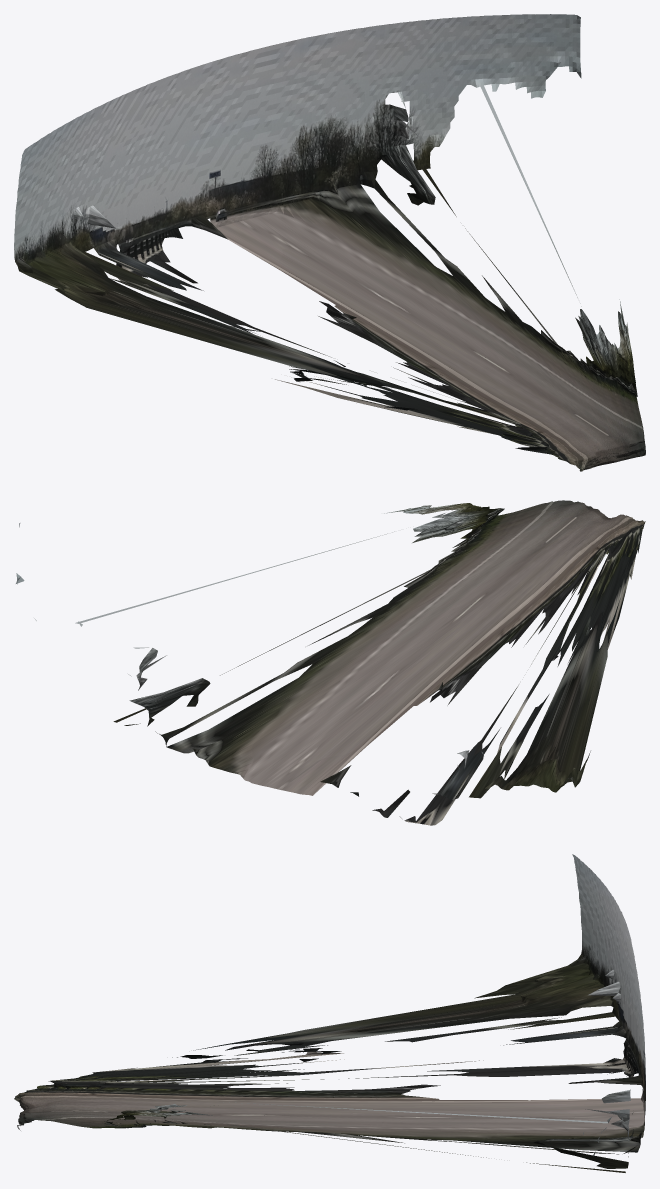
3 views of the same model, one above another, from view 1: azimuth 30°, elevation 25°; view 2: azimuth 150°, elevation 25°; view 3: azimuth 270°, elevation 25° (orthographic). The views are drawn at different scales.
Parts seen in each view (by area): view 1: defaultobject; view 2: defaultobject; view 3: defaultobject.
Boxes of the visible parts, box(x1,y1,x2,y2) form: defaultobject: box(14, 14, 645, 471); defaultobject: box(16, 500, 645, 825); defaultobject: box(14, 854, 645, 1172).
Bounding box in the file's own units: 40.94 × 13.08 × 44.44.
Materials: 1 (1 with a texture image).
